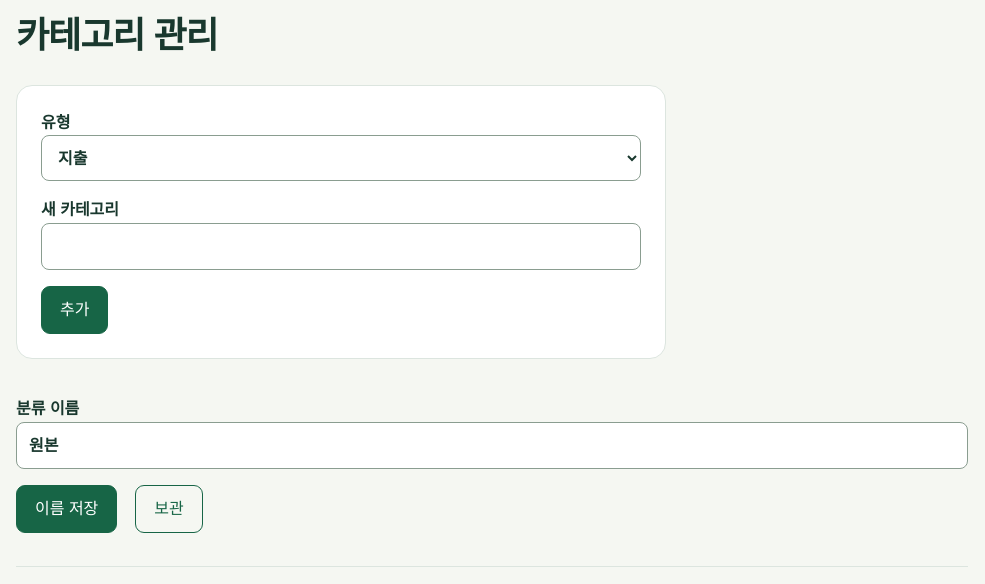
it: 카테고리 보관 응답 유실 뒤 재조회로 보관 상태를 반영한다
Click the button "보관" at (169, 509), box x1=135 y1=485 x2=203 y2=533
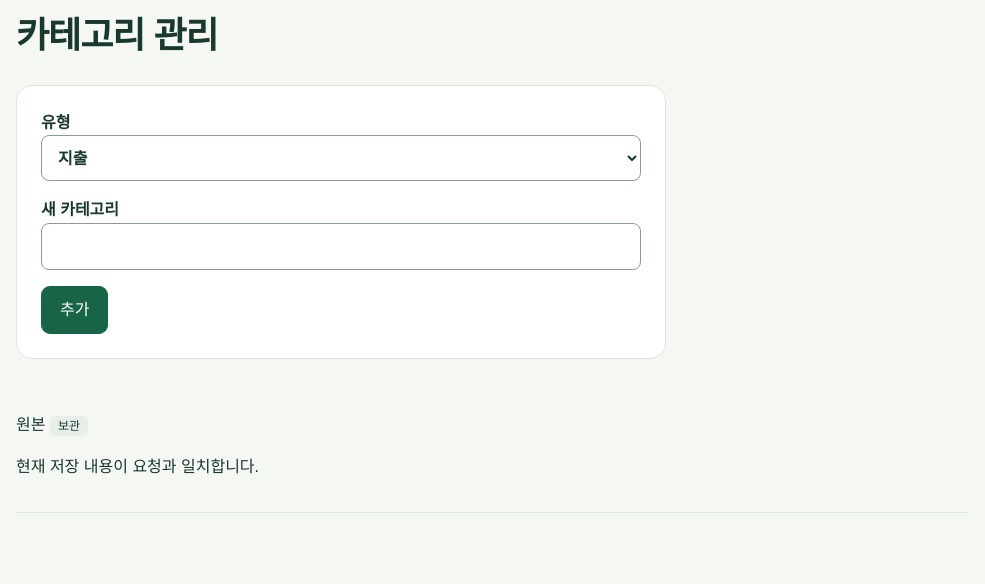
Expected: the text "현재 저장 내용이 요청과 일치합니다." is shown, x1=16 y1=458 x2=259 y2=475
Expected: the label labelled "분류 이름" is gone
